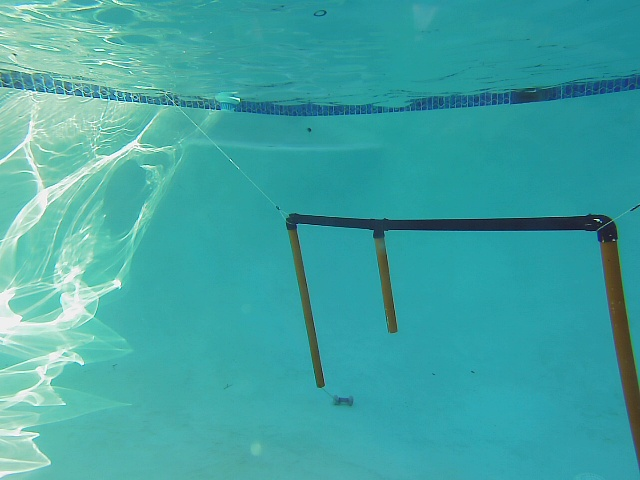Gate: (597, 235, 640, 462), (283, 229, 330, 389), (370, 231, 402, 340)
